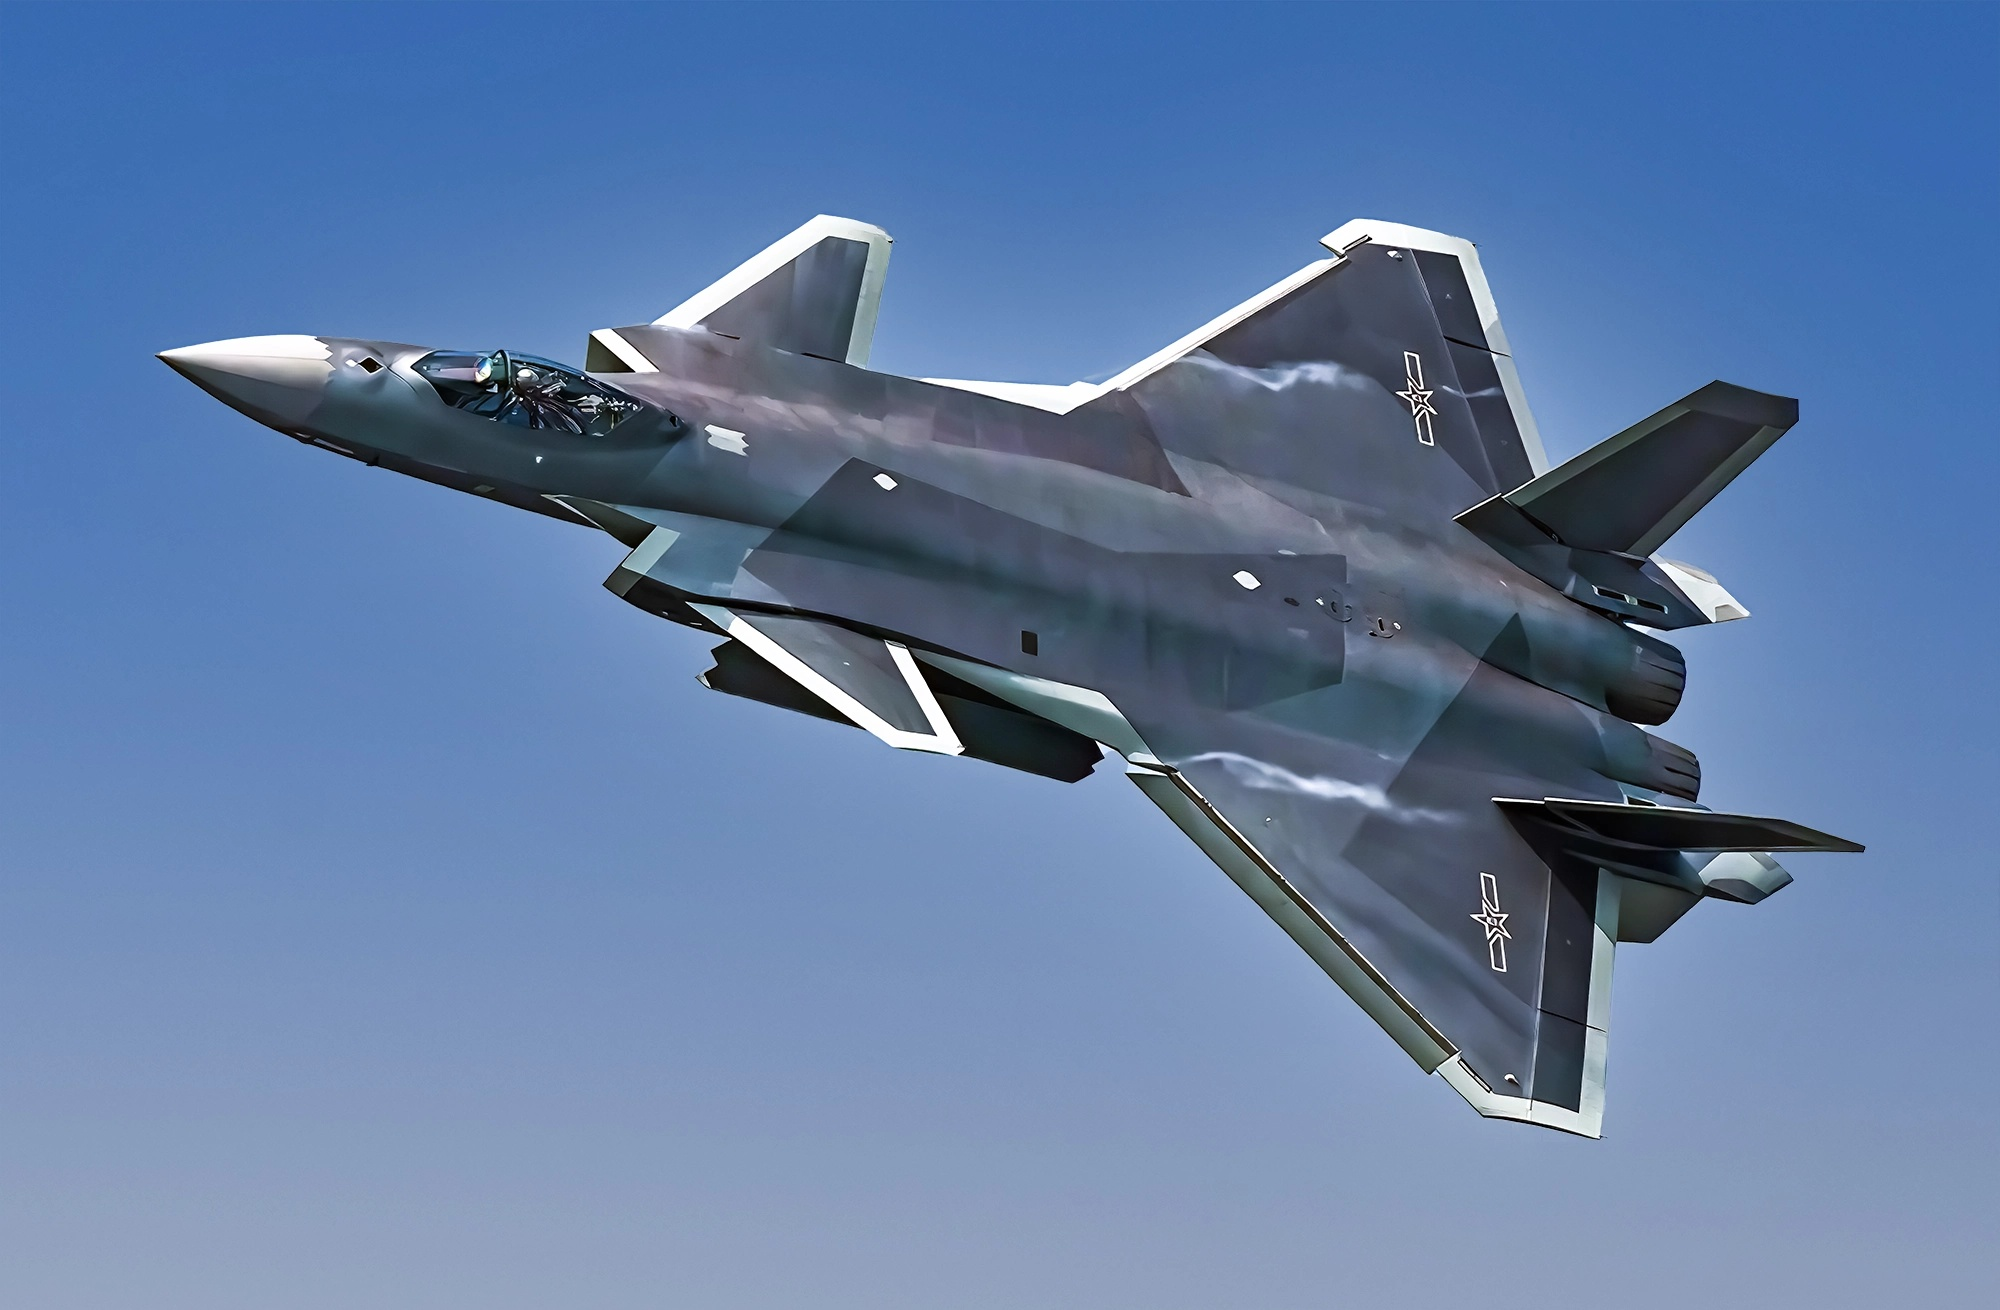J20: (154, 218, 1867, 1140)
